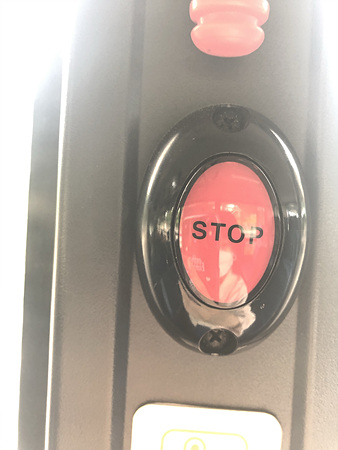bell: (138, 102, 309, 357)
